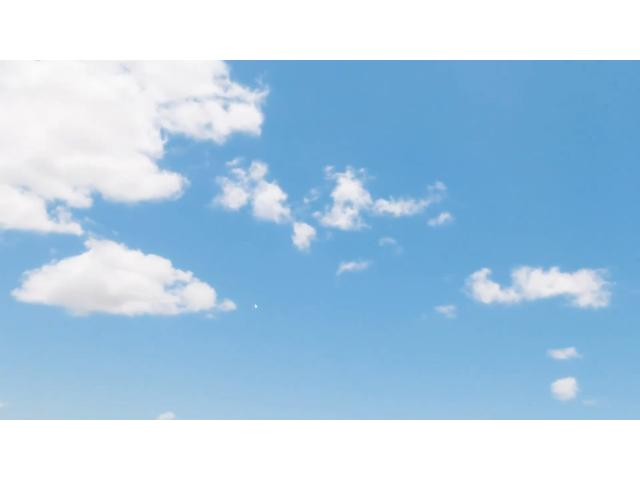Anti-Drone: (252, 300, 260, 312)
